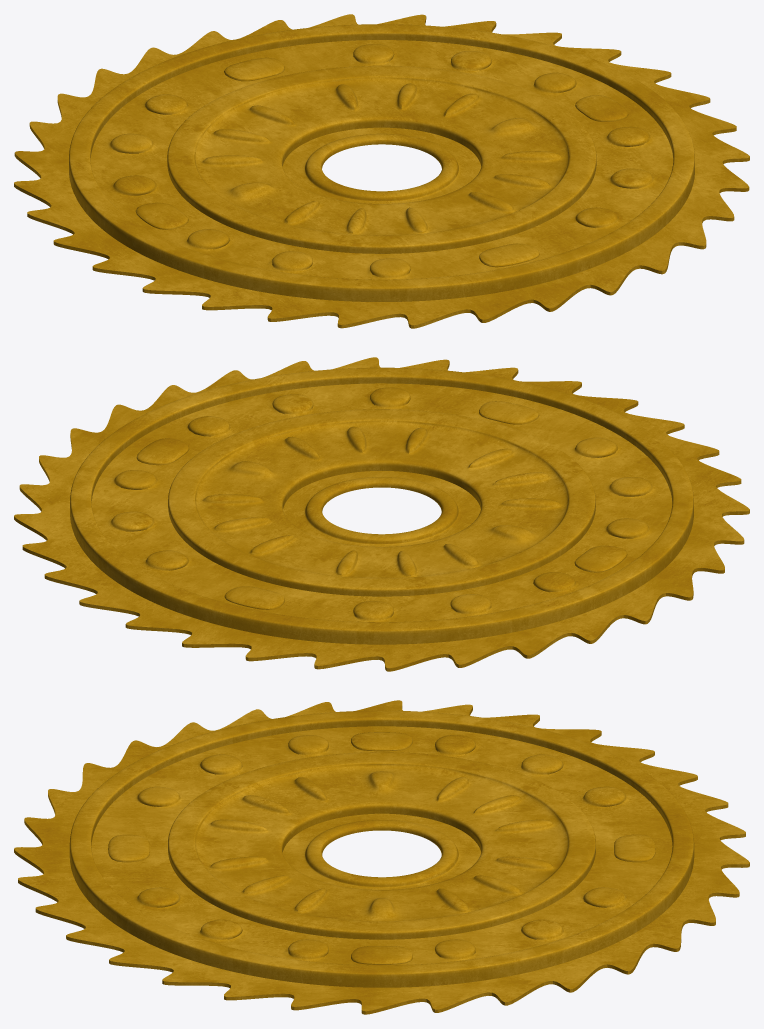
File: Sudarshan Chakra.glb
3 renders of one model, top to bottom at view 1: azimuth 30°, elevation 25°; view 2: azimuth 150°, elevation 25°; view 3: azimuth 270°, elevation 25°, orthographic.
Visible parts, largest first — view 1: Sudarshan Chakra; view 2: Sudarshan Chakra; view 3: Sudarshan Chakra.
Part boxes in pixels (x1,y1,x2,y2): Sudarshan Chakra: (14,14,749,328); Sudarshan Chakra: (14,357,749,671); Sudarshan Chakra: (14,700,749,1014).
Size of the model in its own units: 2.34 by 0.1101 by 2.34.
1 material, 1 textured.
